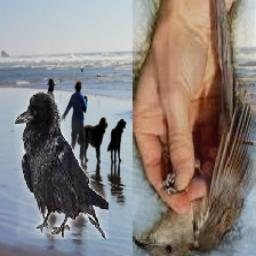Crow: (15, 93, 110, 240)
Cuckoo: (133, 0, 256, 256)
